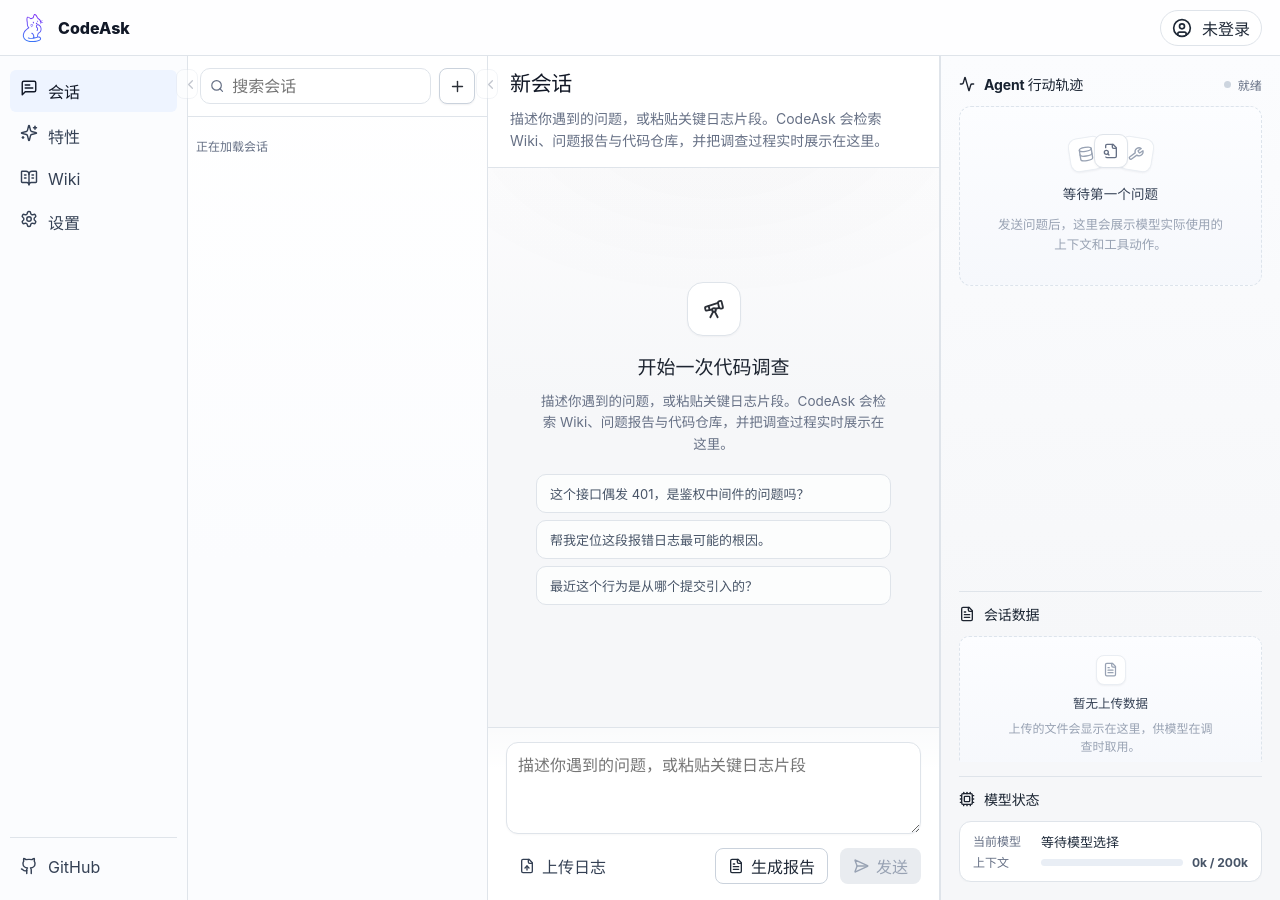
Test: FeatureWorkbench management actions › shows feature settings read-only (no editable inputs) for members without manage rights
The width and height of the screenshot is (1280, 900).
Click the button "特性": (94, 136) [10,115,177,157]
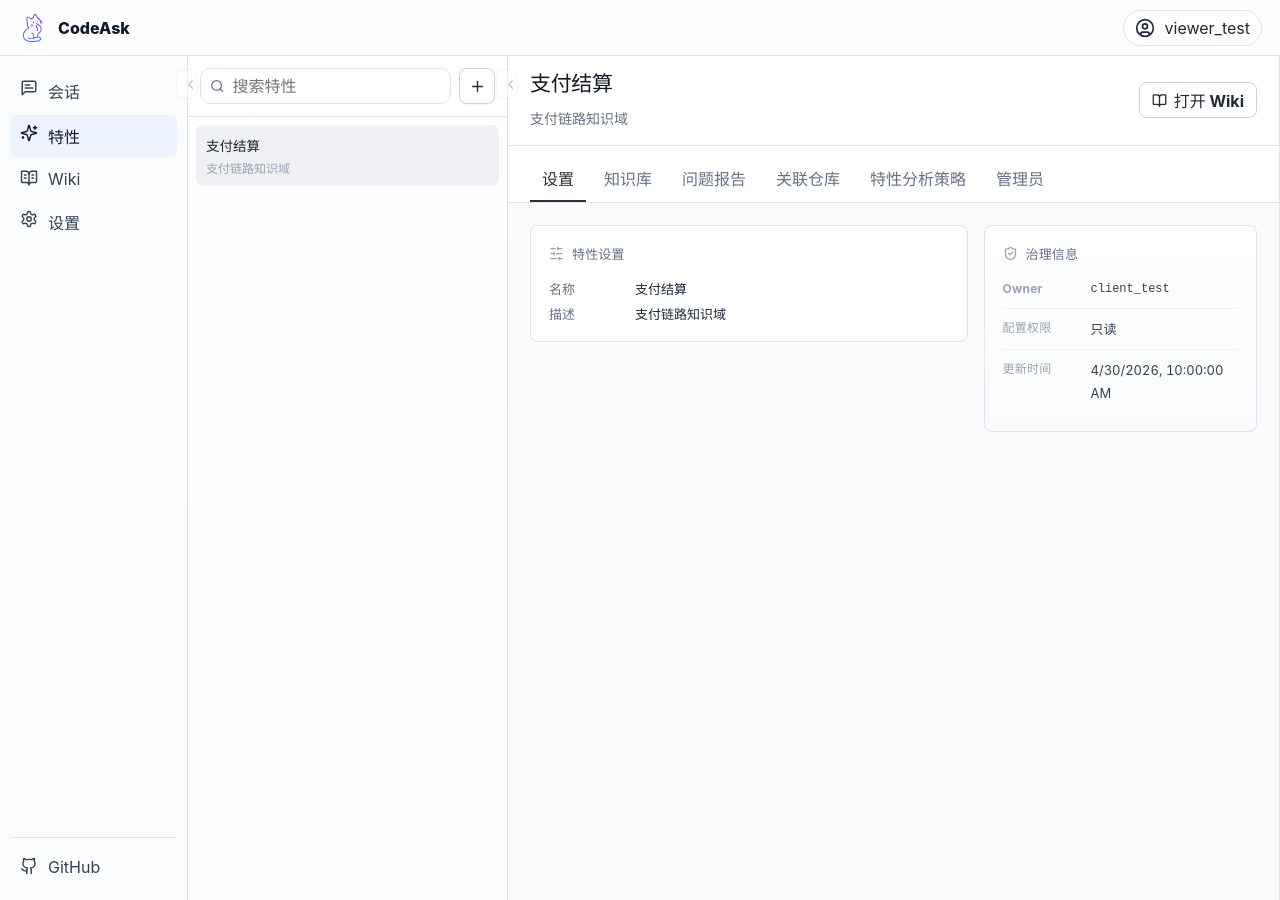
Now the text "支付结算" next to "名称" is shown, box [635,281,687,297]
